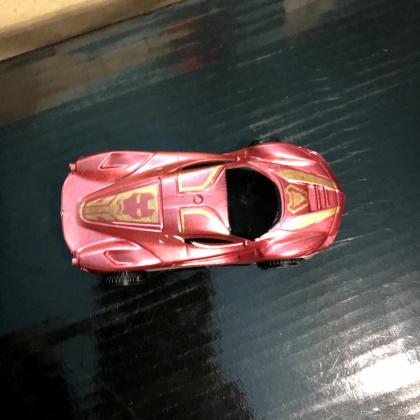Car: (57, 135, 347, 288)
